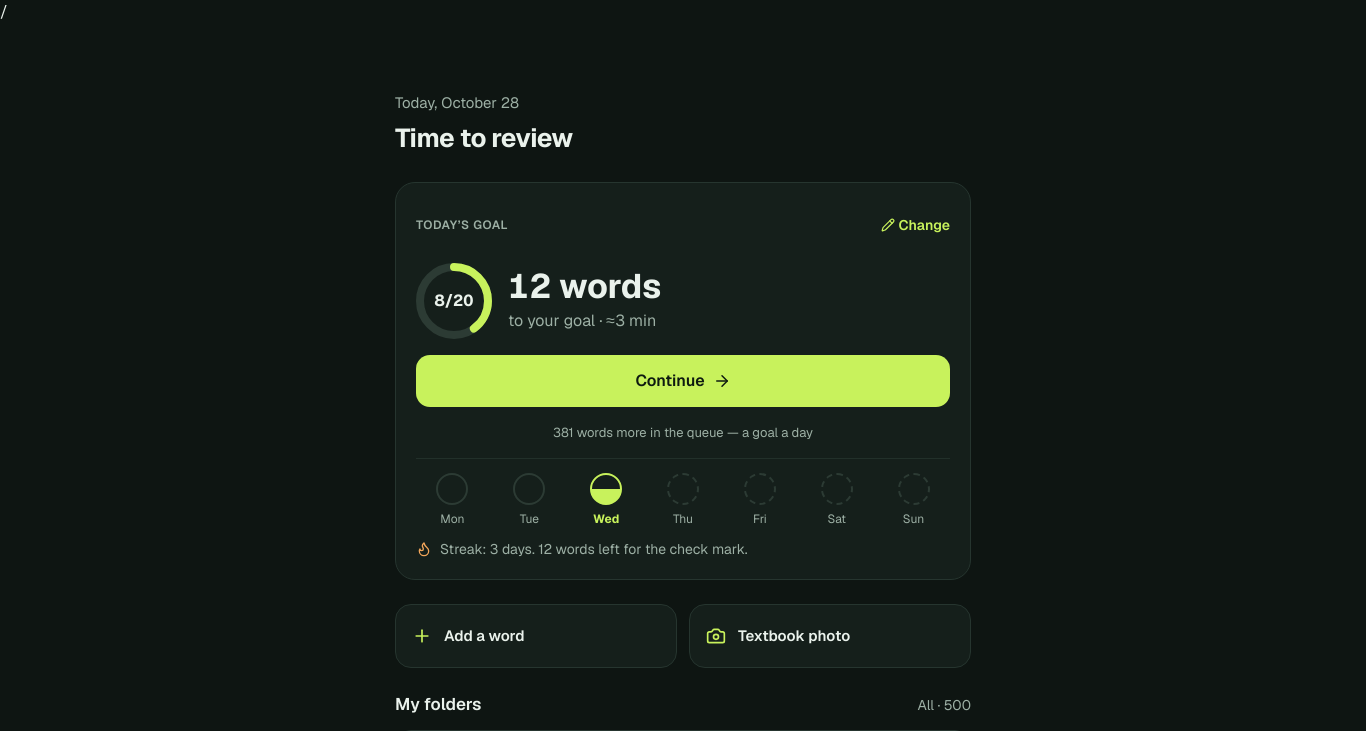
Scenario: Home: the goal sheet › opens from "Change", has the four goals with minutes, and a pick saves it, closes, and changes the ring
Expected: the text "8/20" is shown, [434,288,473,312]
Step 1. Click the button "Change" → (915, 224), box [873,202,958,246]
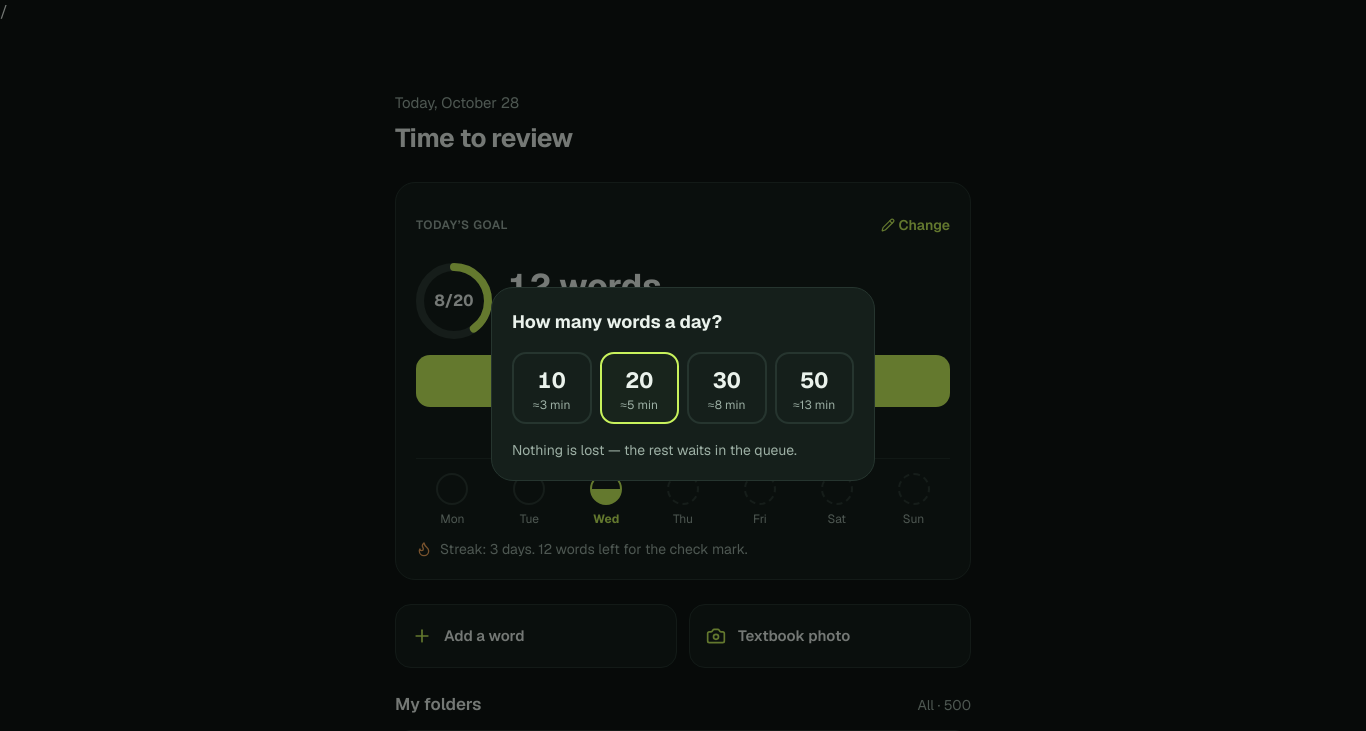
Now the radio buttons read "10≈3 min", "20≈5 min", "30≈8 min", "50≈13 min", in this order
Now the text "Nothing is lost — the rest waits in the queue." is shown, box [512,441,797,459]
Step 2. Click the radio button labelled "30 ≈8 min" → (727, 388), box [687,352,766,424]
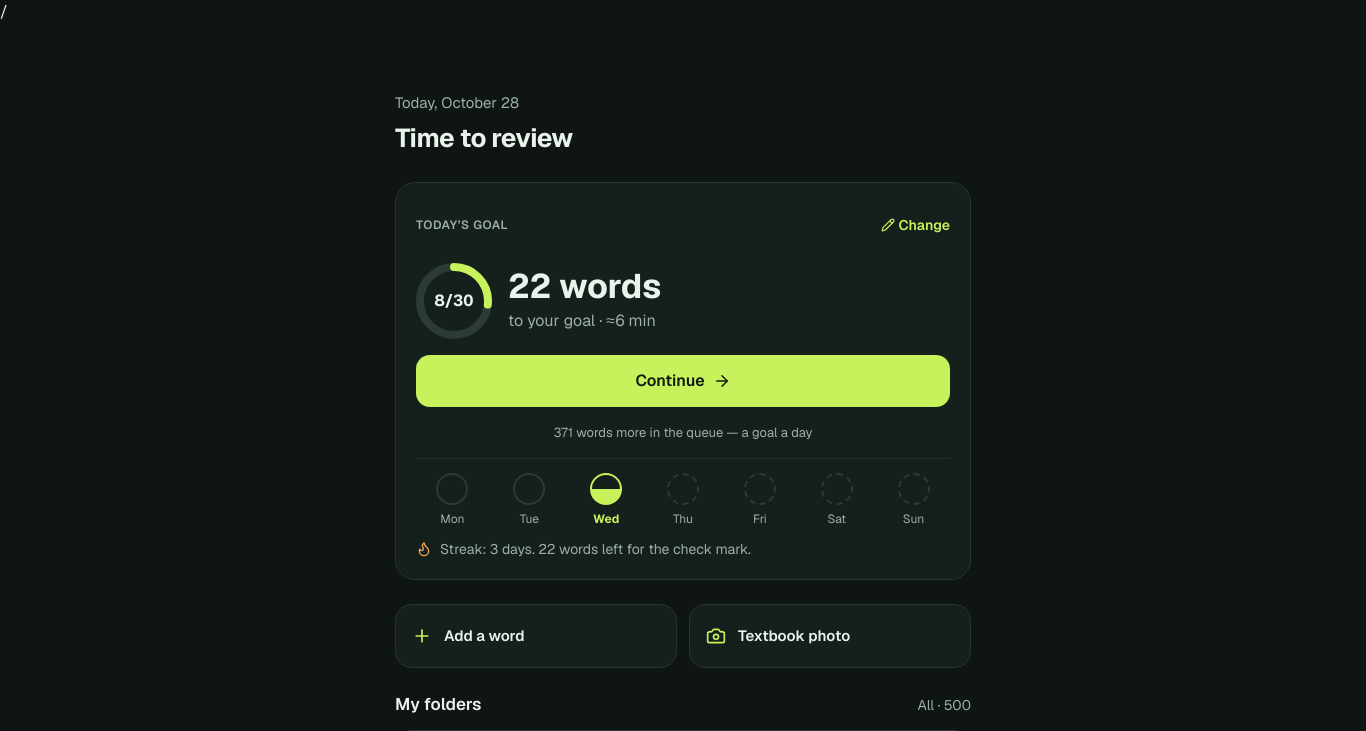
Now the dialog is gone
Now the text "8/30" is shown, box [434,288,473,312]
